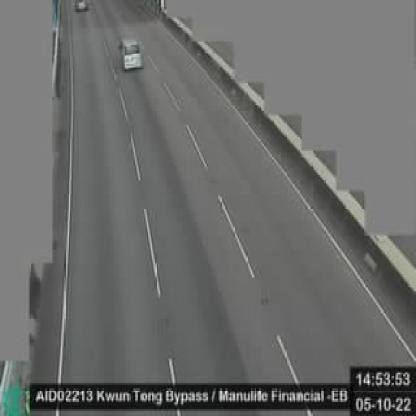Car: (118, 36, 143, 71)
